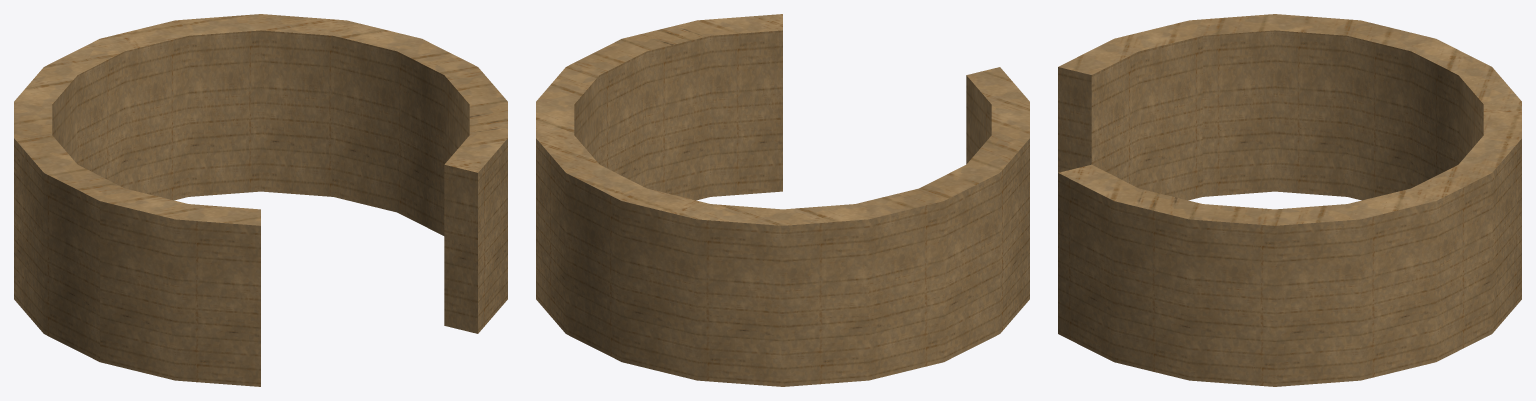
Rendered from 원형wood 1.fbx.
The picture shows the model from 3 angles, left to right: view 1: azimuth 30°, elevation 25°; view 2: azimuth 150°, elevation 25°; view 3: azimuth 270°, elevation 25°; orthographic projection.
Parts seen in each view (by area): view 1: 원형벽돌001; view 2: 원형벽돌001; view 3: 원형벽돌001.
Part boxes in pixels (x1=…): 원형벽돌001: x1=14, y1=14, x2=507, y2=386; 원형벽돌001: x1=536, y1=14, x2=1029, y2=386; 원형벽돌001: x1=1058, y1=14, x2=1521, y2=386.
Size of the model in its own units: 1601 by 568 by 1482.
